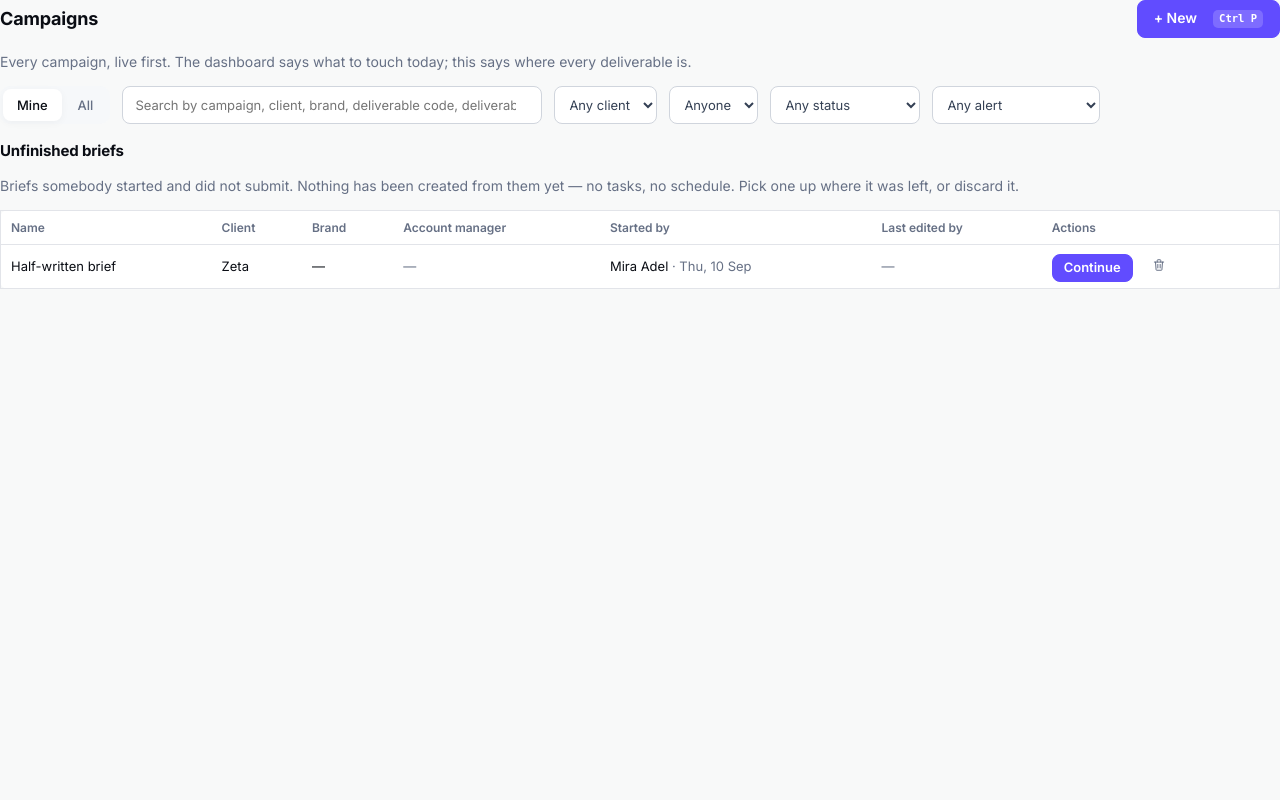
CampaignsPage (ADR-0020) › explains a refused discard rather than repeating it
Click the button with test id "campaign-draft-discard-d1" at {"x": 1159, "y": 266}, box [1145, 252, 1173, 280]
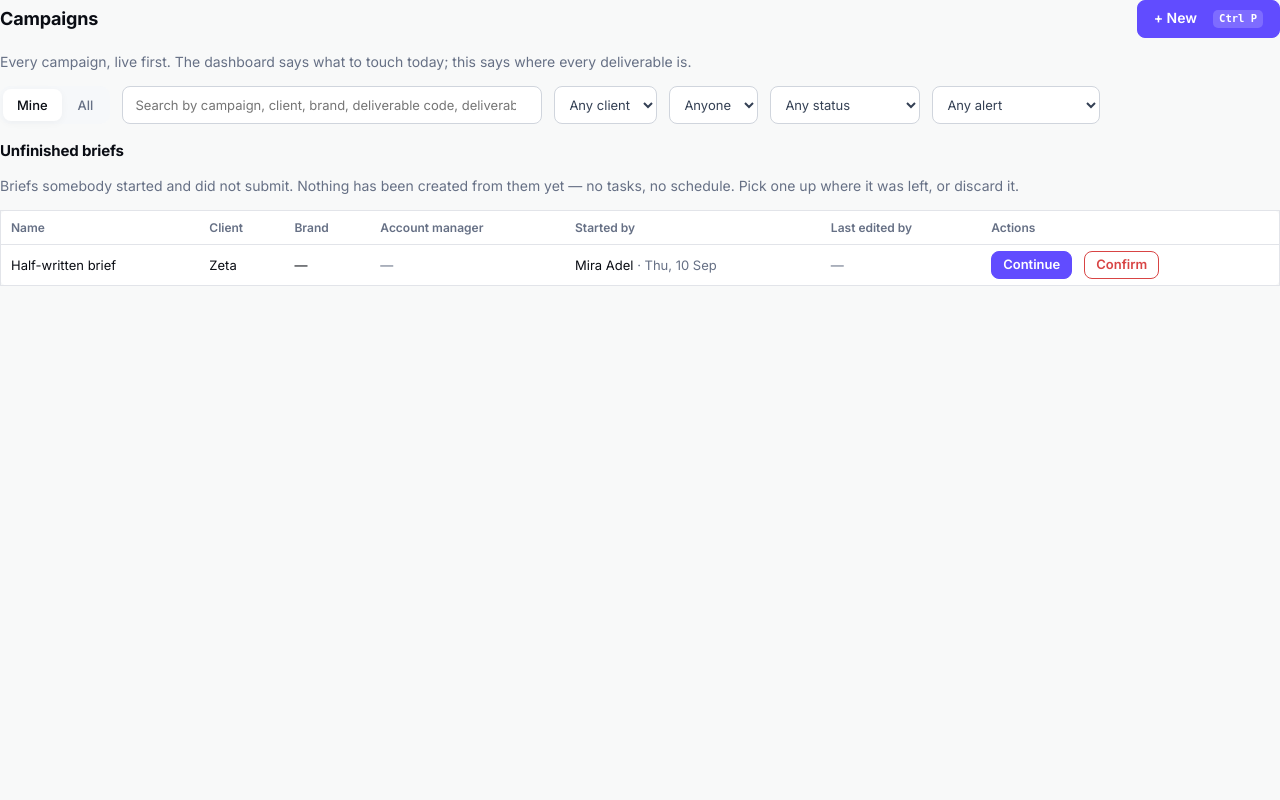
Click the button with test id "campaign-draft-discard-d1" at {"x": 1122, "y": 265}, box [1084, 252, 1159, 279]
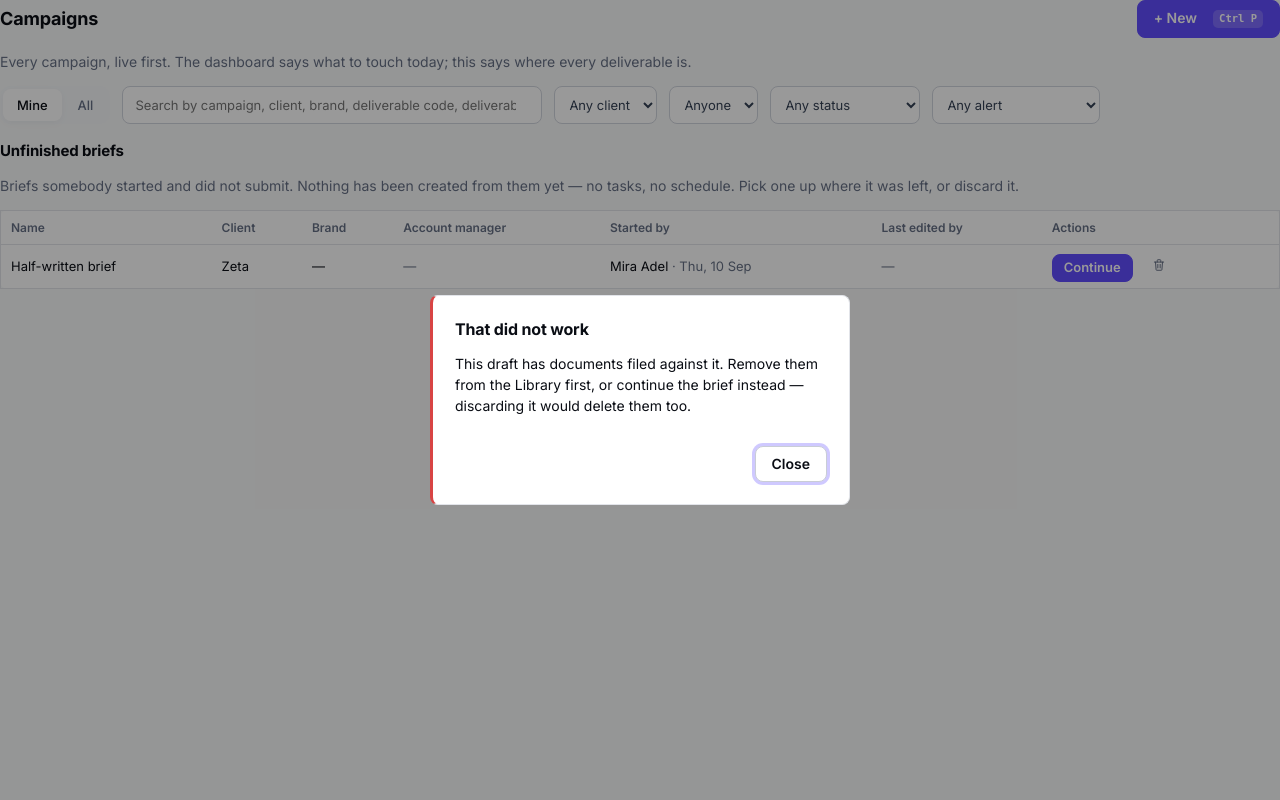
Expected: the text with test id "campaigns-banner" shows "documents filed against it", [455, 355, 818, 414]
